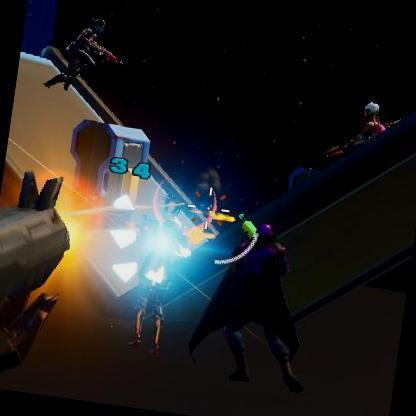person: (182, 212, 325, 392), (140, 202, 184, 352), (66, 12, 94, 90), (358, 100, 384, 132)
